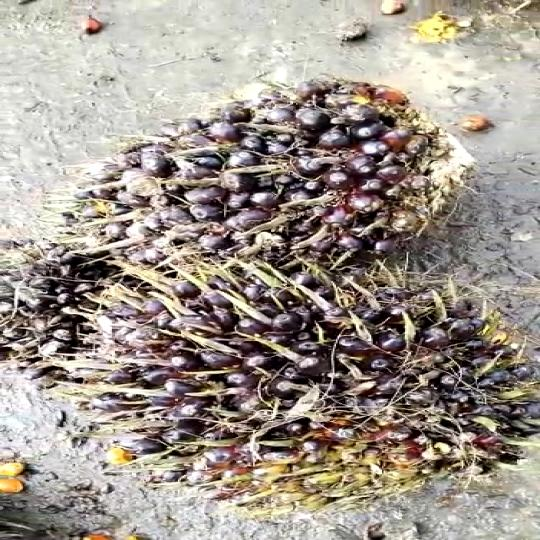mentah: (0, 221, 540, 506), (50, 68, 540, 283)
